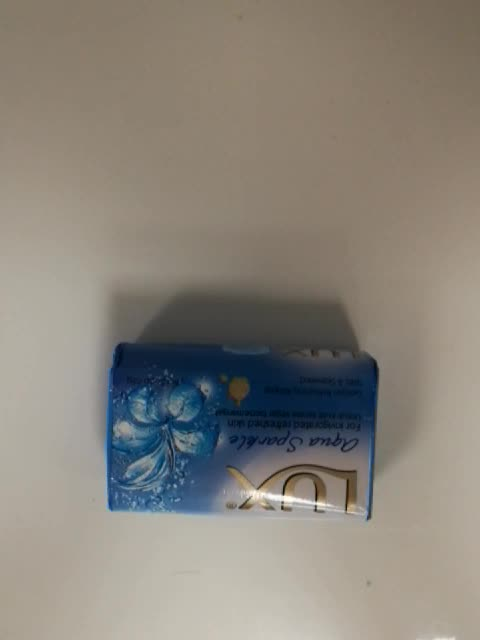soap: (103, 339, 380, 522)
